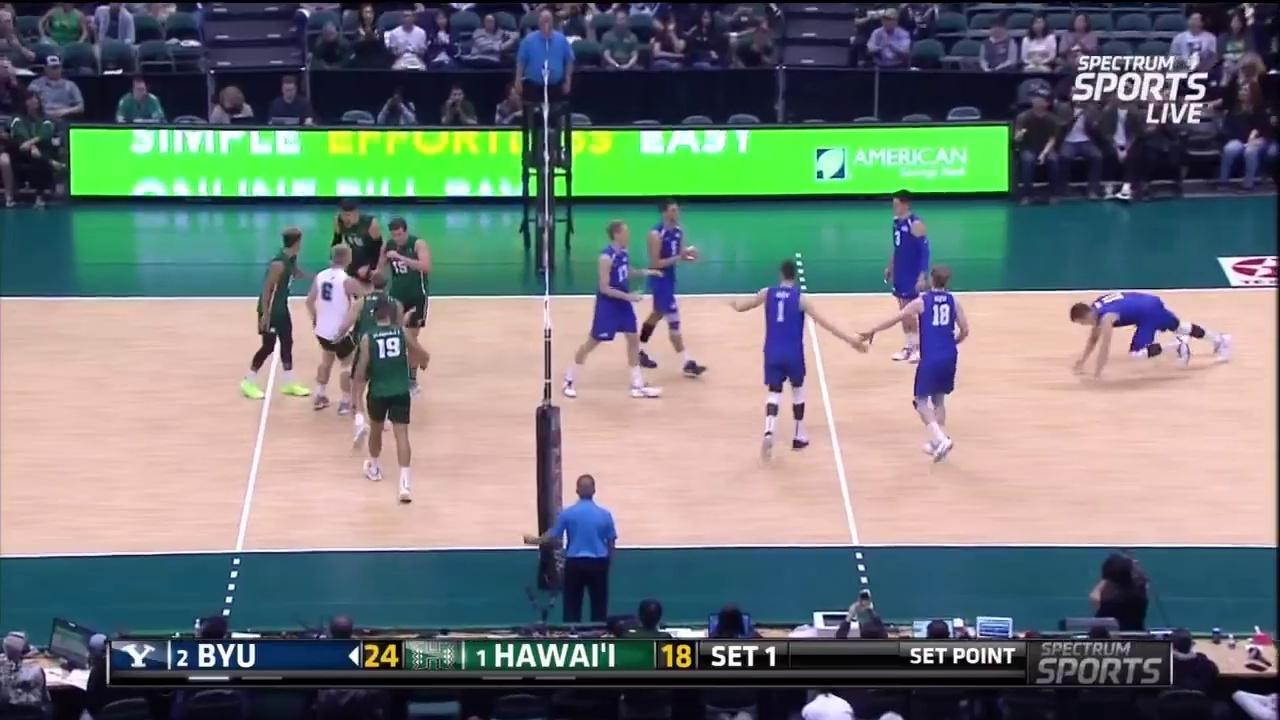player: (733, 250, 827, 454), (566, 219, 662, 402), (887, 259, 968, 466), (1068, 286, 1241, 375), (358, 301, 421, 511), (244, 231, 312, 401), (304, 243, 371, 412), (376, 219, 439, 395), (638, 205, 700, 377), (354, 271, 411, 449), (888, 185, 939, 362), (331, 201, 383, 371)
refree: (539, 473, 621, 636), (513, 4, 576, 158)
